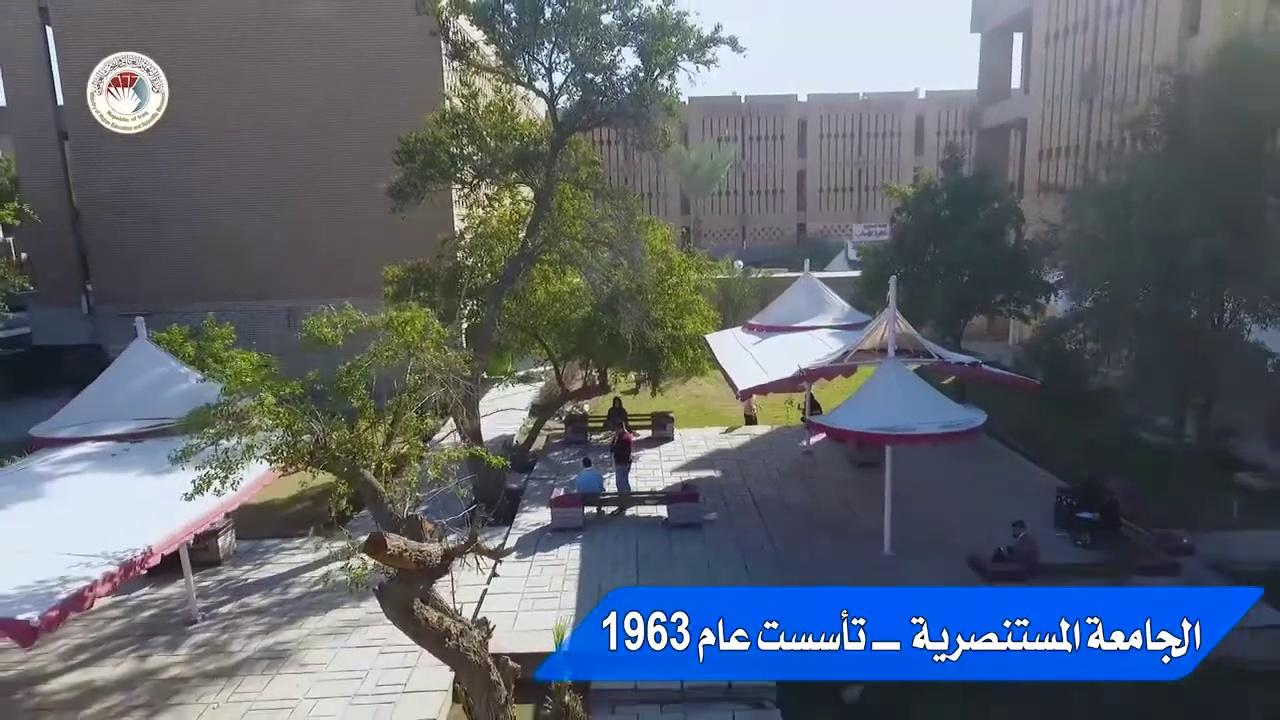person: (990, 518, 1040, 570), (608, 420, 634, 516), (572, 456, 605, 514), (797, 384, 823, 448), (604, 396, 638, 435), (743, 393, 760, 425)
tree: (376, 2, 748, 717), (373, 0, 745, 507), (151, 303, 526, 718), (1031, 32, 1279, 445), (851, 140, 1061, 356), (0, 147, 41, 319), (533, 614, 588, 718)
